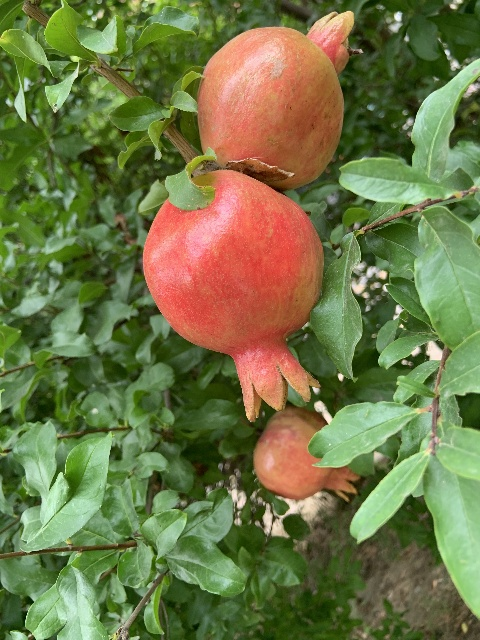ripe: (142, 170, 323, 420), (195, 10, 353, 189), (253, 407, 361, 504)
